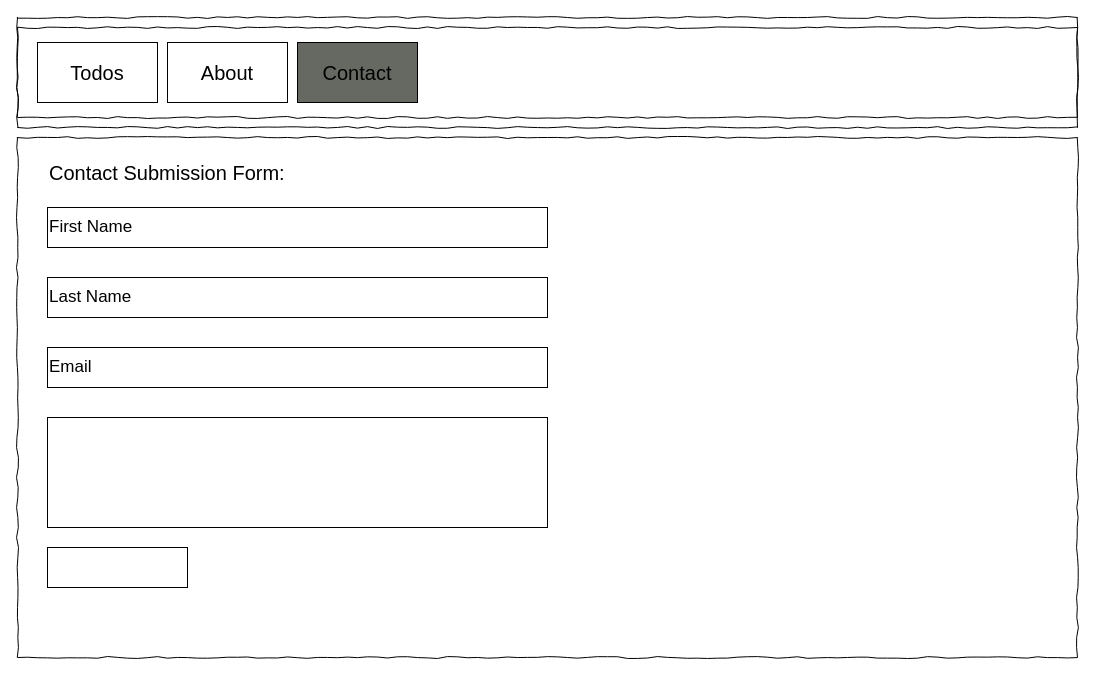
The diagram is 1095 pixels wide and 675 high, and some of its shapes have lost their labels. The shapes that lost their labels are listed below. From the top down, each one's centre as x and y in pixels, then its label:
At [297,472]: "What would you like to say?".
At [117,567]: "Submit".
